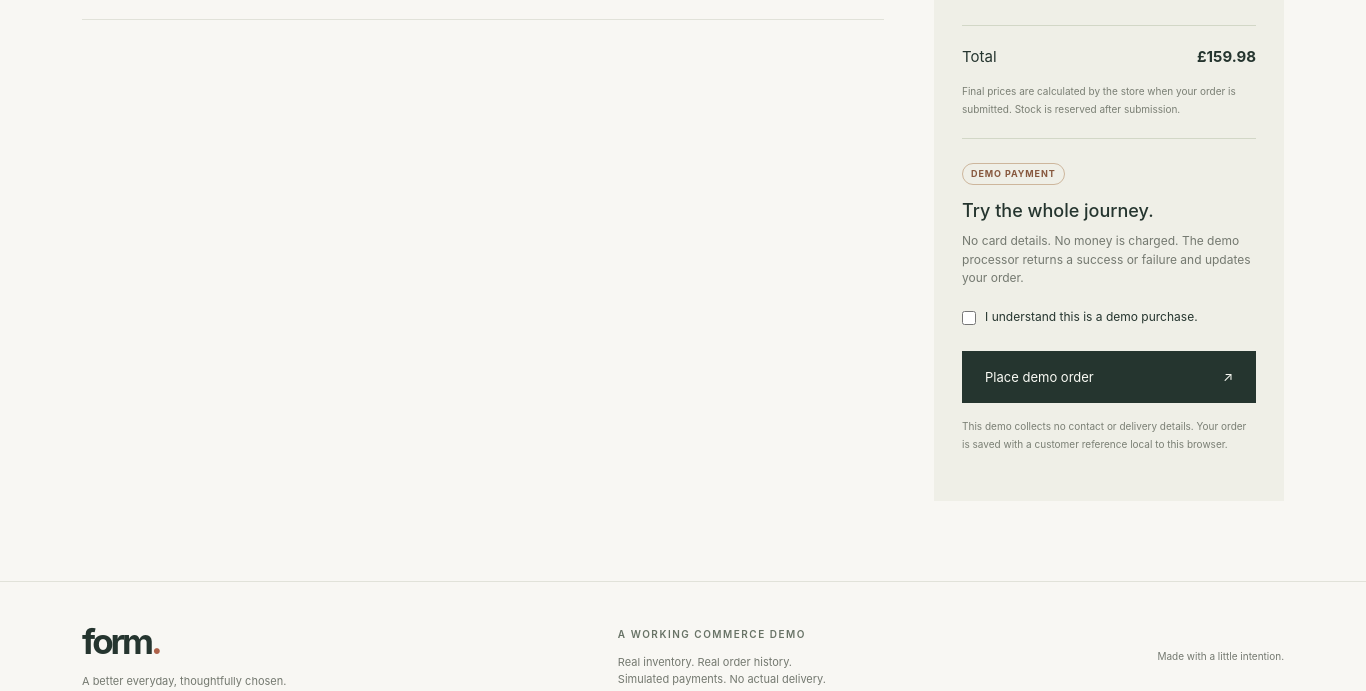
Test: shopping interface › keeps the cart and reports a failed checkout instead of showing fake success
The image size is (1366, 691).
(page scrolled)
Click the button "Place demo order ↗".
click(1039, 377)  # box [962,351,1256,403]
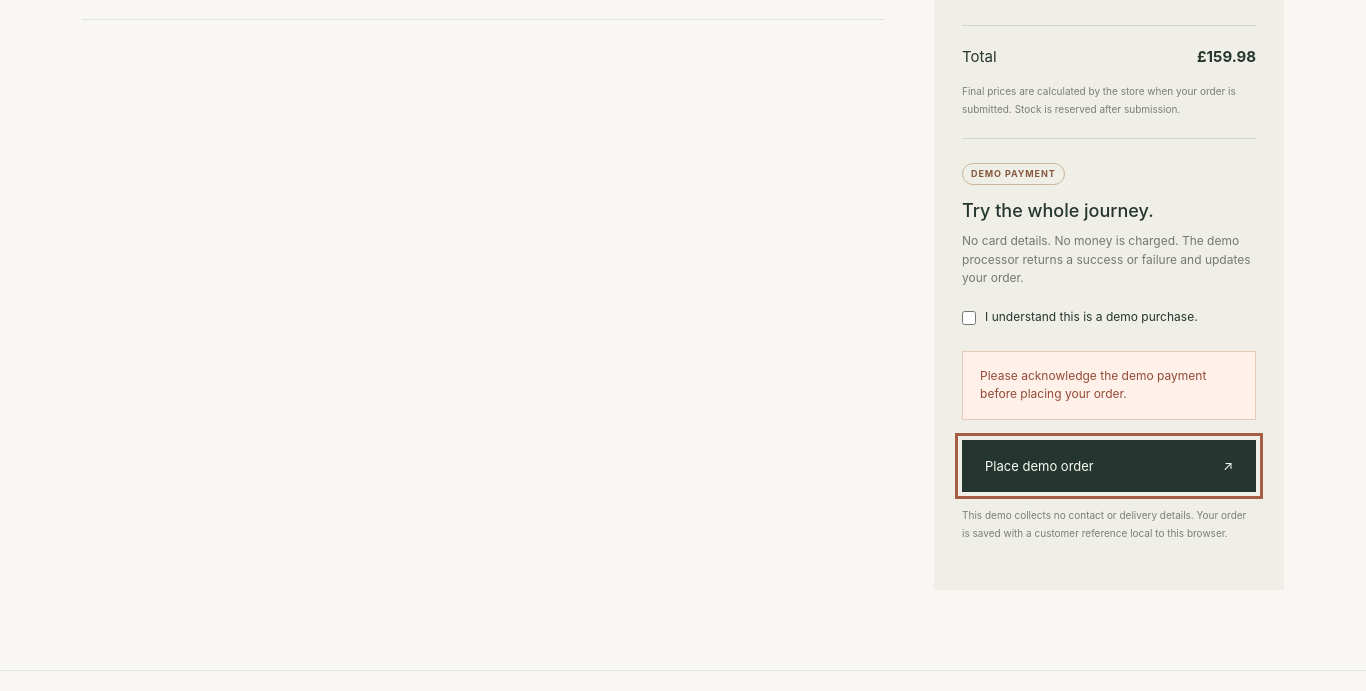
Now the message shows "Please acknowledge the demo payment", box [980,368,1206,402]
Click the checkbox labelled "I understand this is a demo purchase.".
click(969, 318)  # box [962,311,976,325]
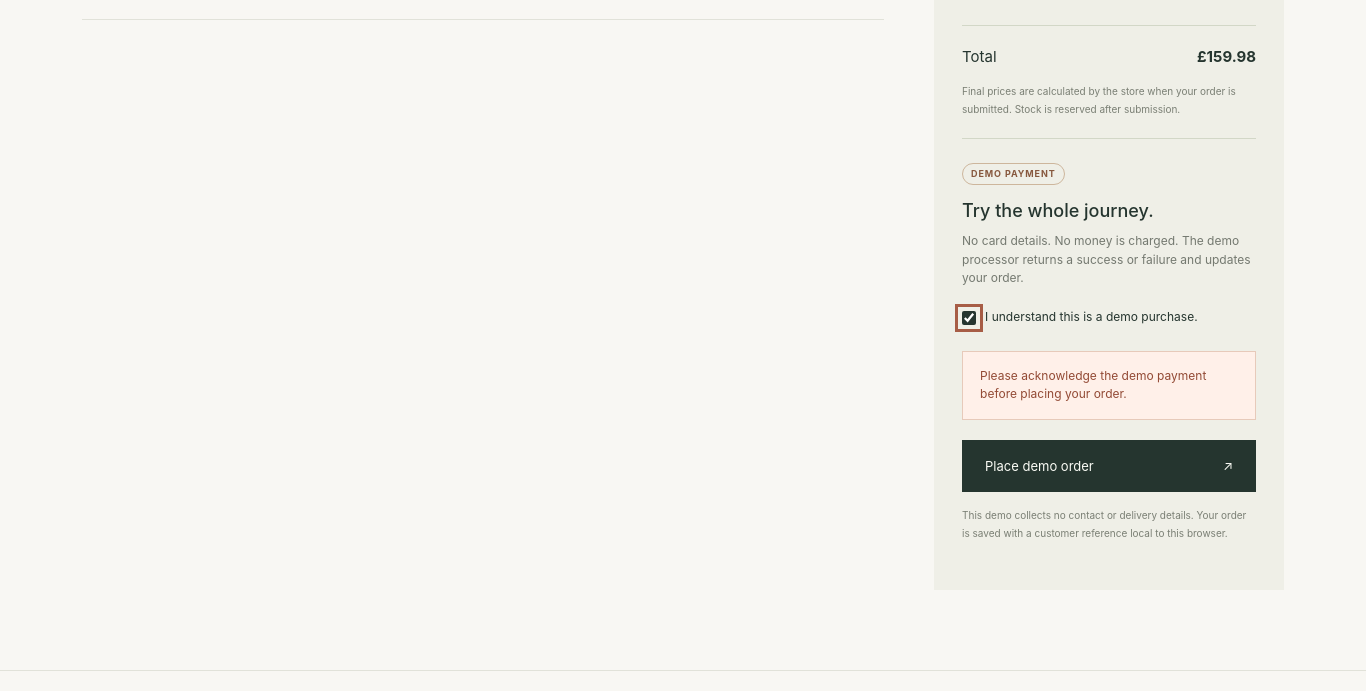
Click the button "Place demo order ↗".
click(1039, 466)  # box [962,440,1256,492]
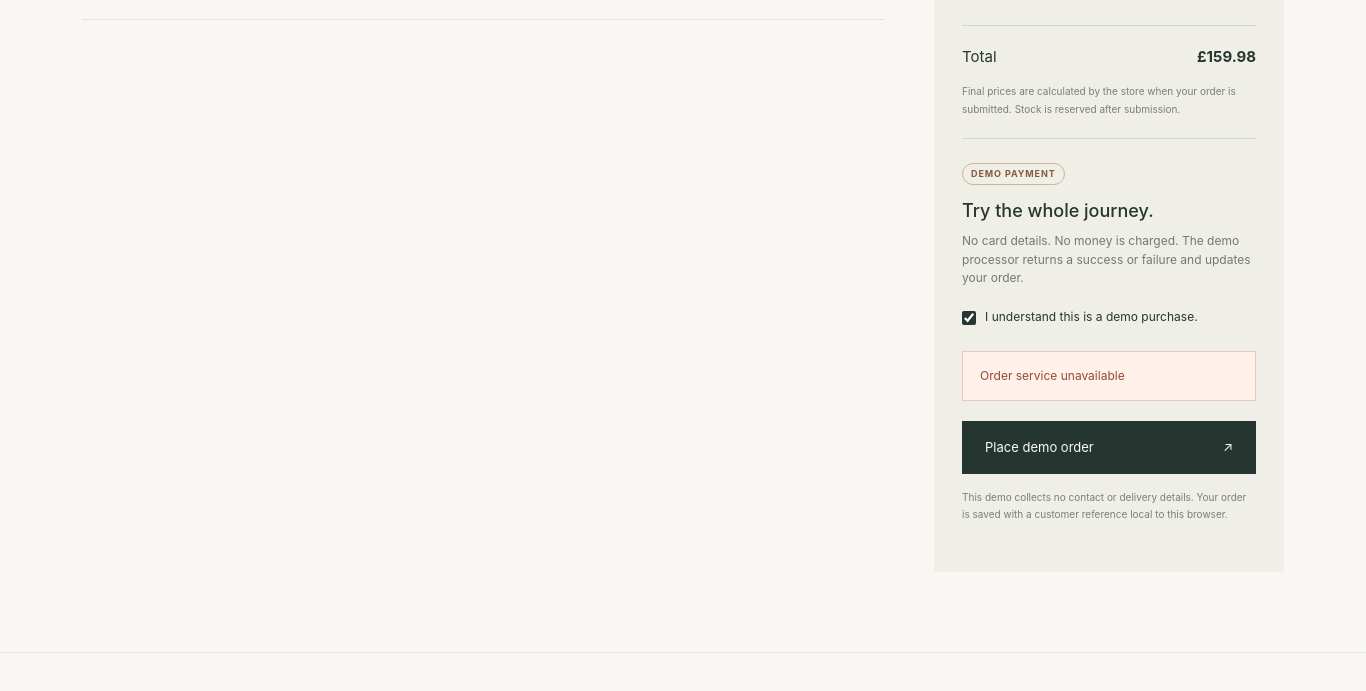
Now the message reads "Order service unavailable", box [980,368,1125,383]
